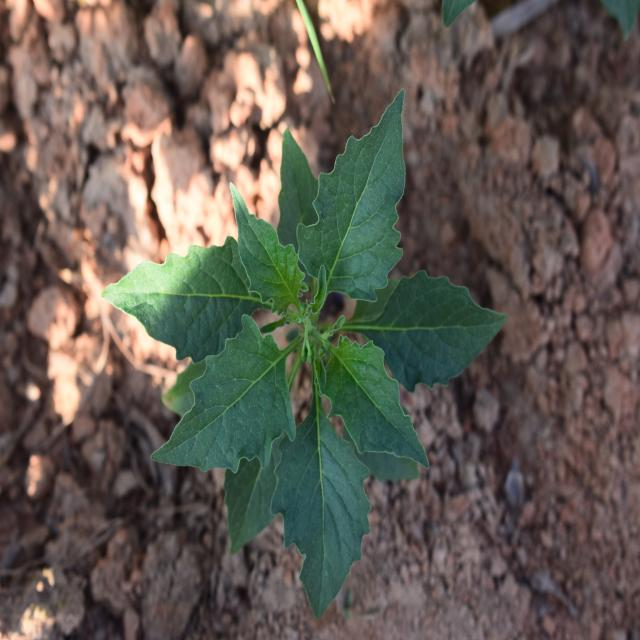Black_nightshade: (116, 124, 477, 584)
